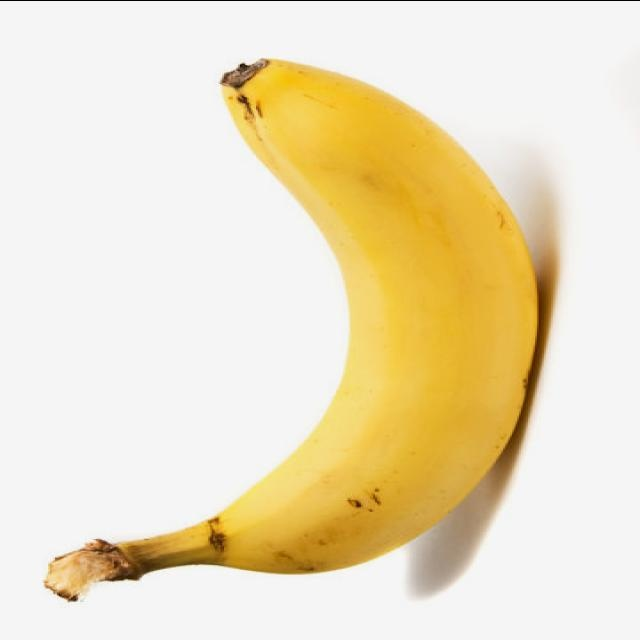agrume: (43, 54, 545, 592)
